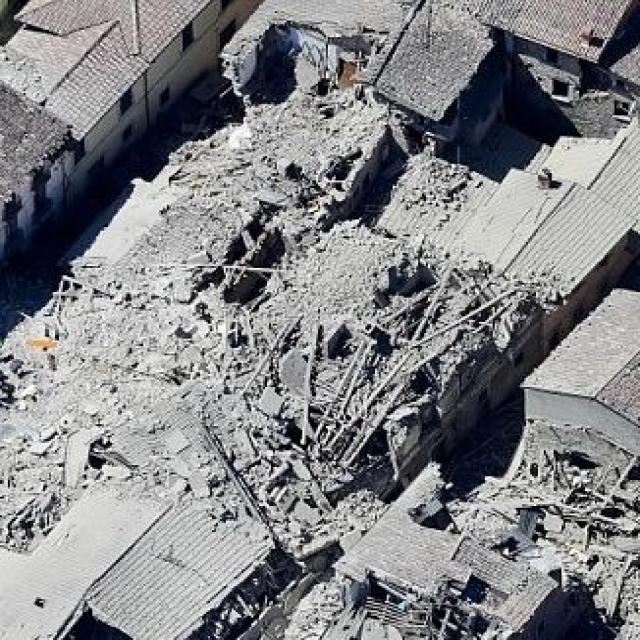collapsed_building: (29, 229, 500, 474), (63, 3, 410, 220), (351, 430, 638, 638)
